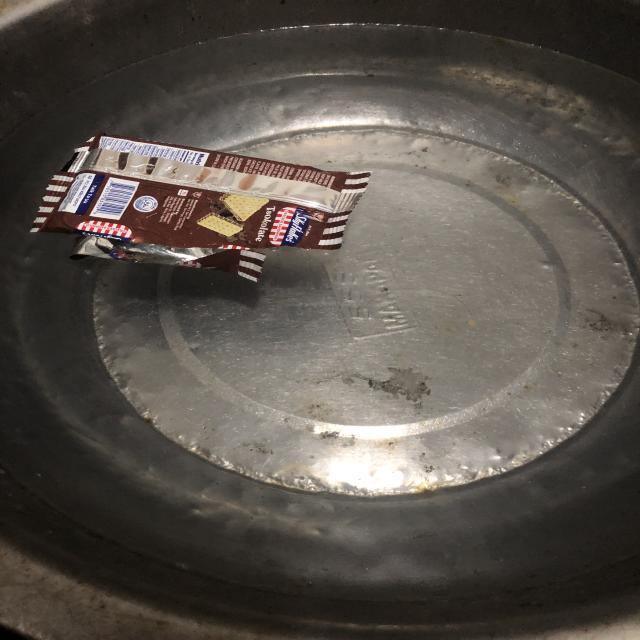Plastic Wrapper: (0, 112, 389, 303)
